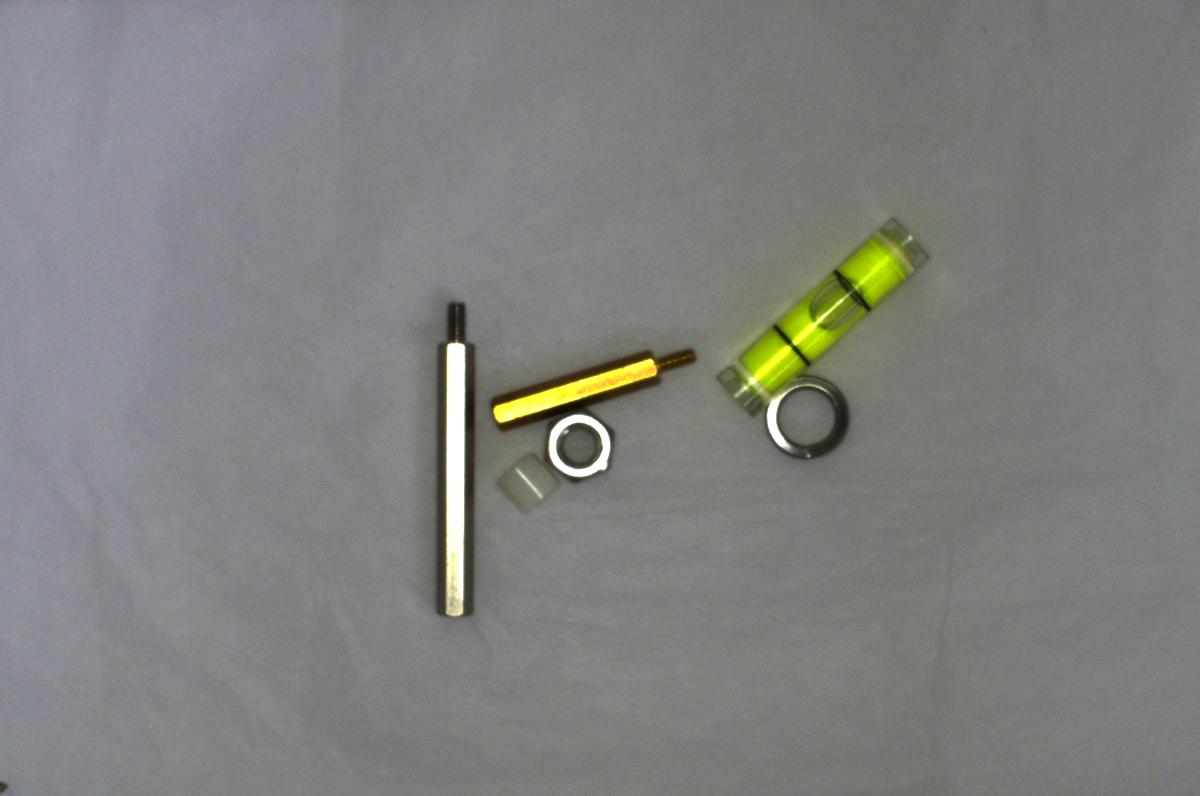Hexagon nut: (541, 405, 618, 482)
Hexagon pillar: (481, 333, 693, 433)
Hexagonal steel column: (421, 293, 481, 627)
Horizontal bubble: (707, 215, 938, 415)
Plastic cushion pillar: (488, 443, 565, 516)
Spring washer: (758, 374, 862, 463)
